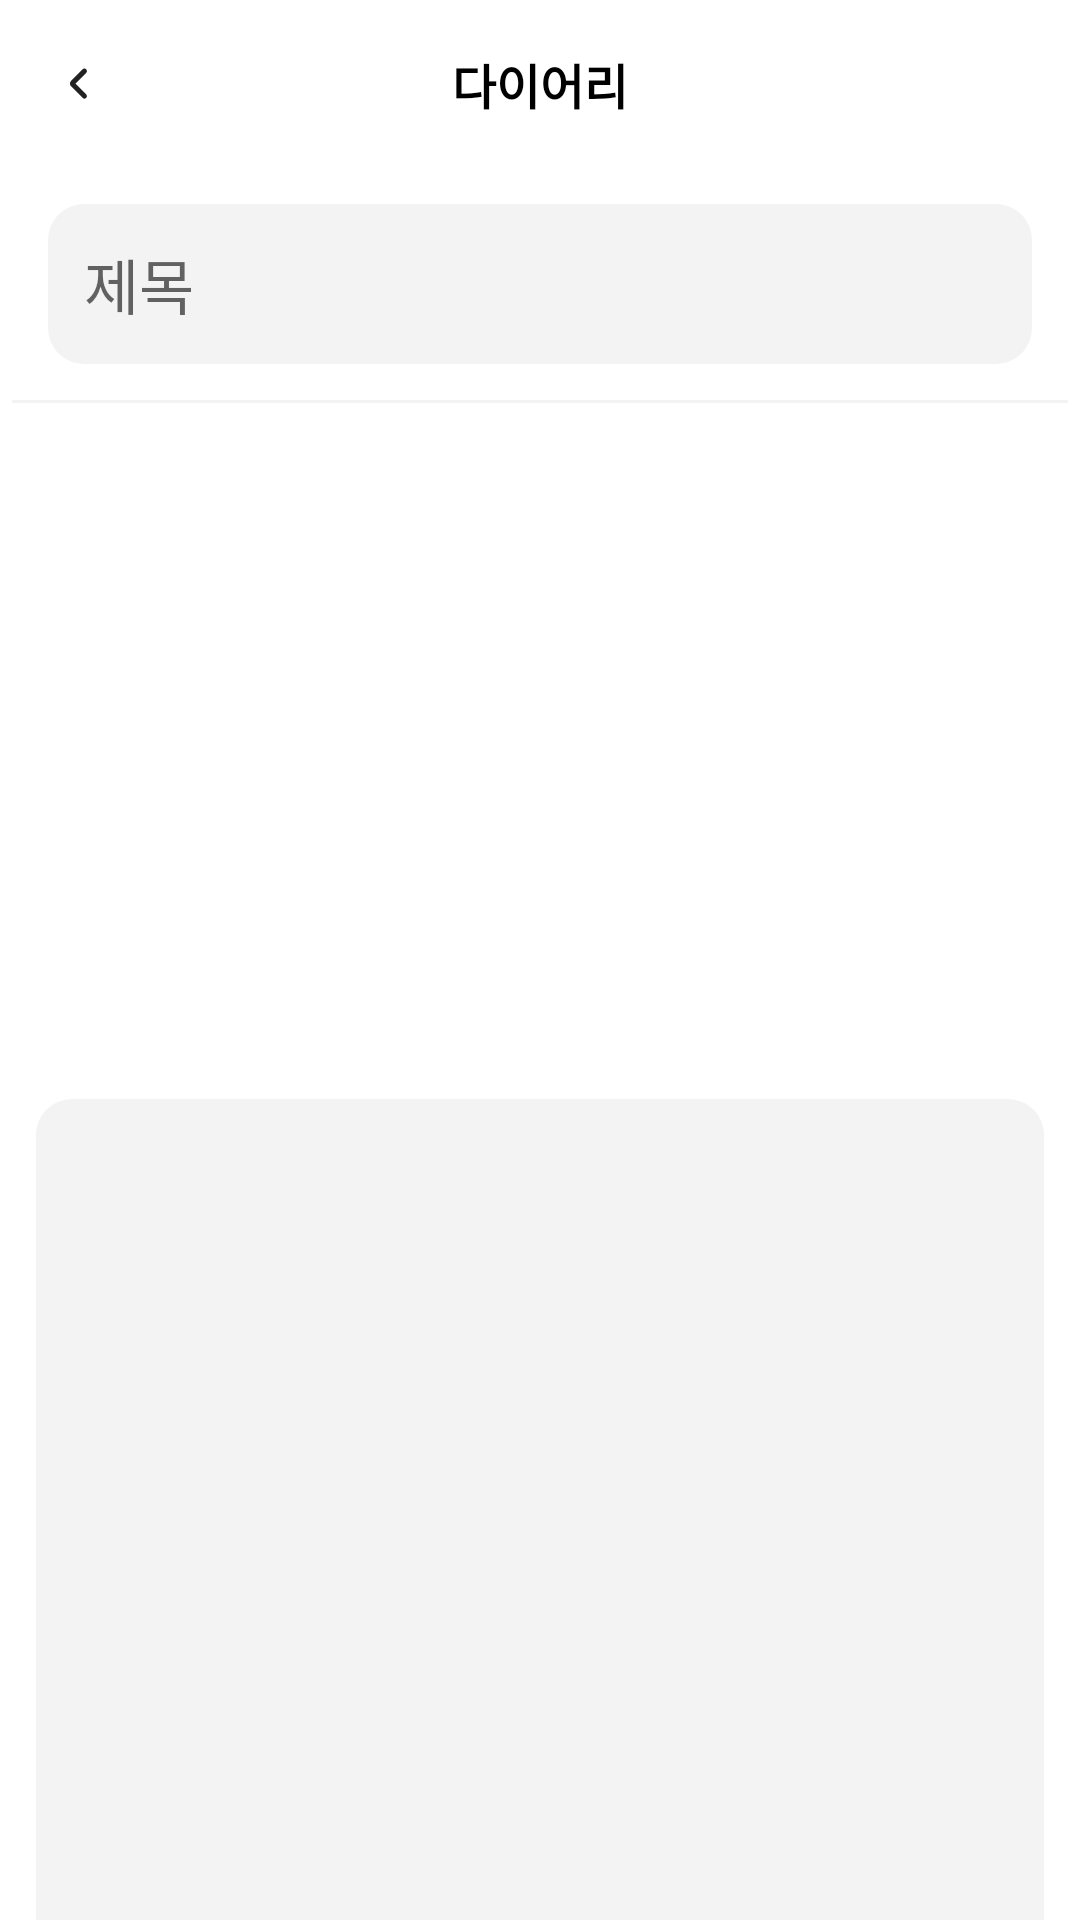

Where to tap for icons on this 1080*1920 app screen, as [x,y]:
arrow back: [78,83]
